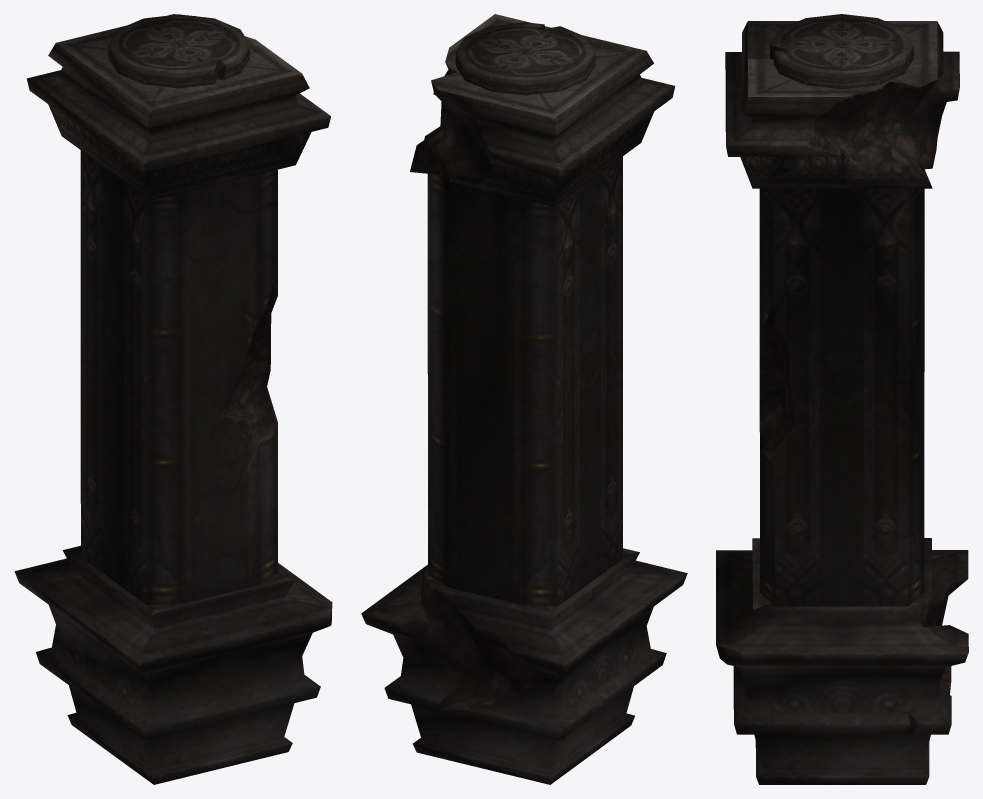
Rendered from S2_Build_XSC113.FBX.
3 views of the same model, side by side, from view 1: azimuth 30°, elevation 25°; view 2: azimuth 150°, elevation 25°; view 3: azimuth 270°, elevation 25° (orthographic). The views are drawn at different scales.
Visible parts, largest first — view 1: S2_Build_XSC113; view 2: S2_Build_XSC113; view 3: S2_Build_XSC113.
Part boxes in pixels (left/top/right/bottom): S2_Build_XSC113: left=14, top=14, right=332, bottom=784; S2_Build_XSC113: left=361, top=14, right=687, bottom=784; S2_Build_XSC113: left=716, top=14, right=968, bottom=784.
Size of the model in its own units: 336 by 1081 by 350.
Materials: 1 (1 with a texture image).
